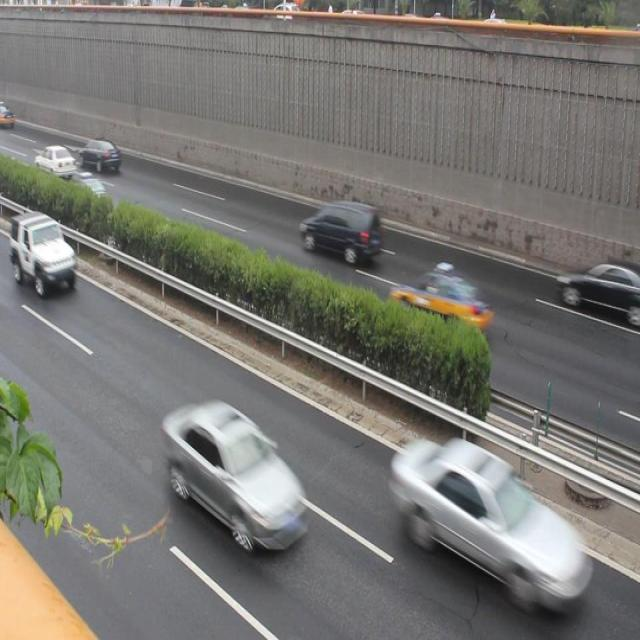car: (390, 437, 576, 595), (161, 399, 310, 548), (385, 270, 491, 340), (9, 211, 77, 295), (555, 258, 640, 322), (58, 174, 111, 223), (79, 136, 122, 173), (35, 145, 76, 181)
truck: (299, 200, 380, 265)
